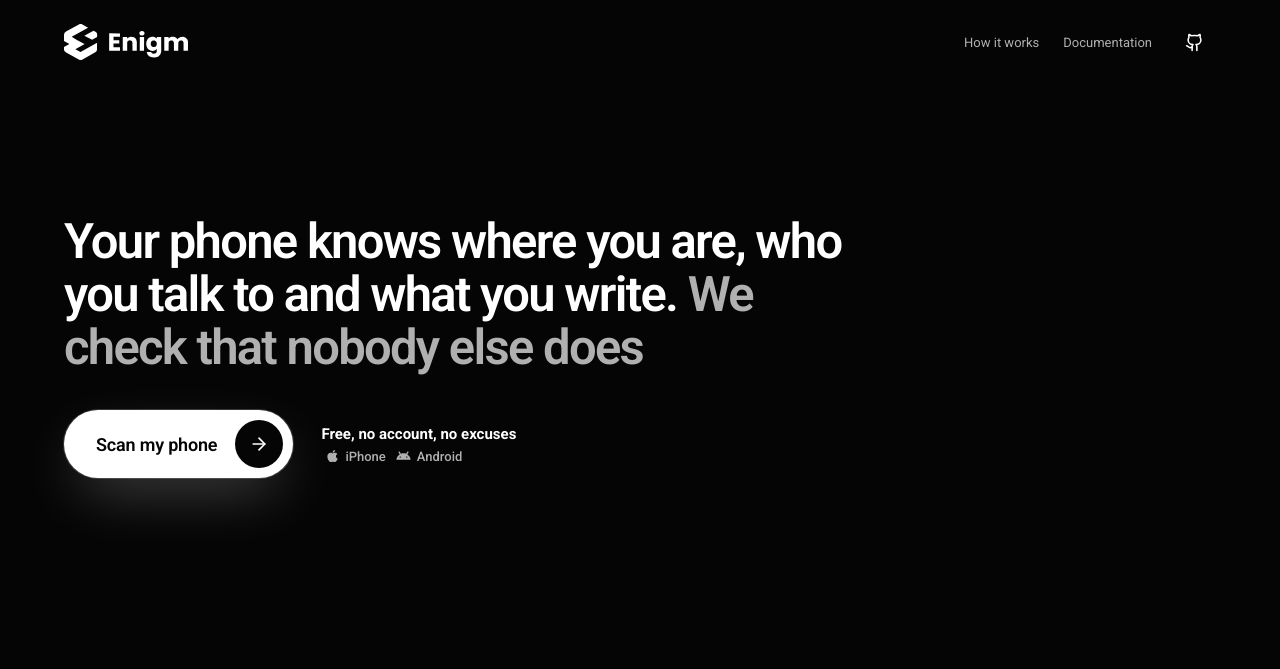
Scenario: opens the How it works page from the header and drops the privacy toggle
This screenshot has width=1280, height=669.
Click the link "How it works". click: point(1002, 42)
box: [964, 34, 1039, 50]
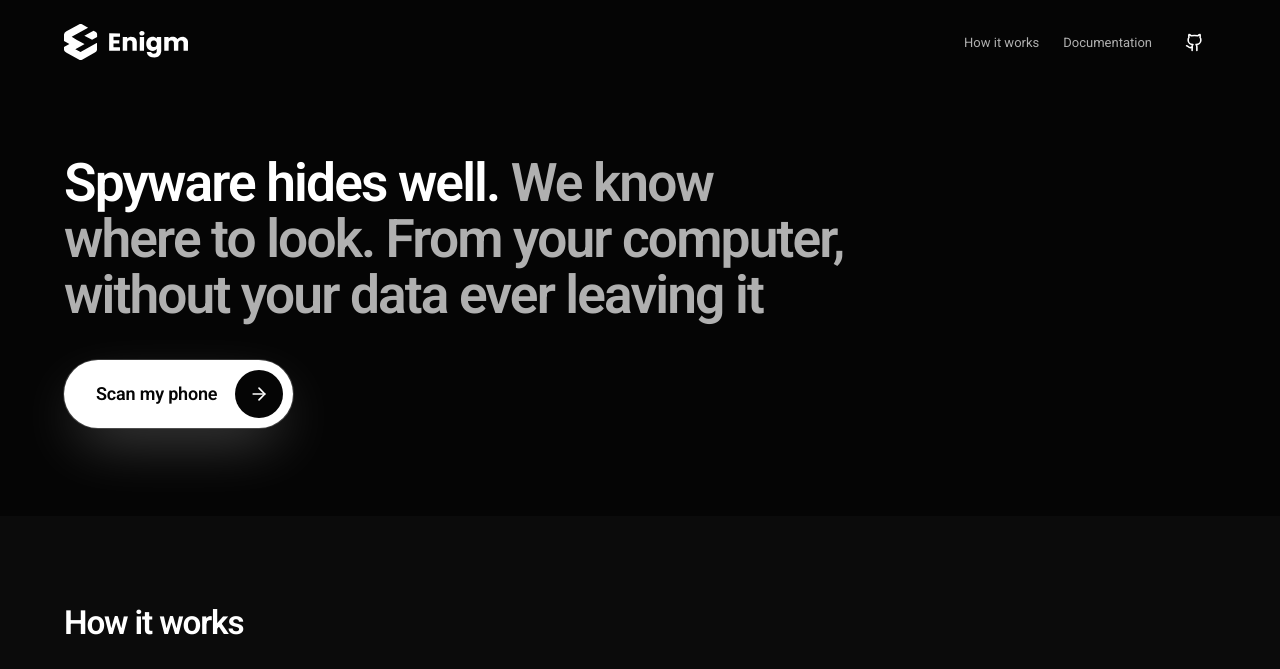
Check: the heading "Spyware hides well." is shown, box [64, 152, 843, 326]
Click the link named "Enigm Scan". click: point(126, 42)
box: [64, 24, 188, 60]
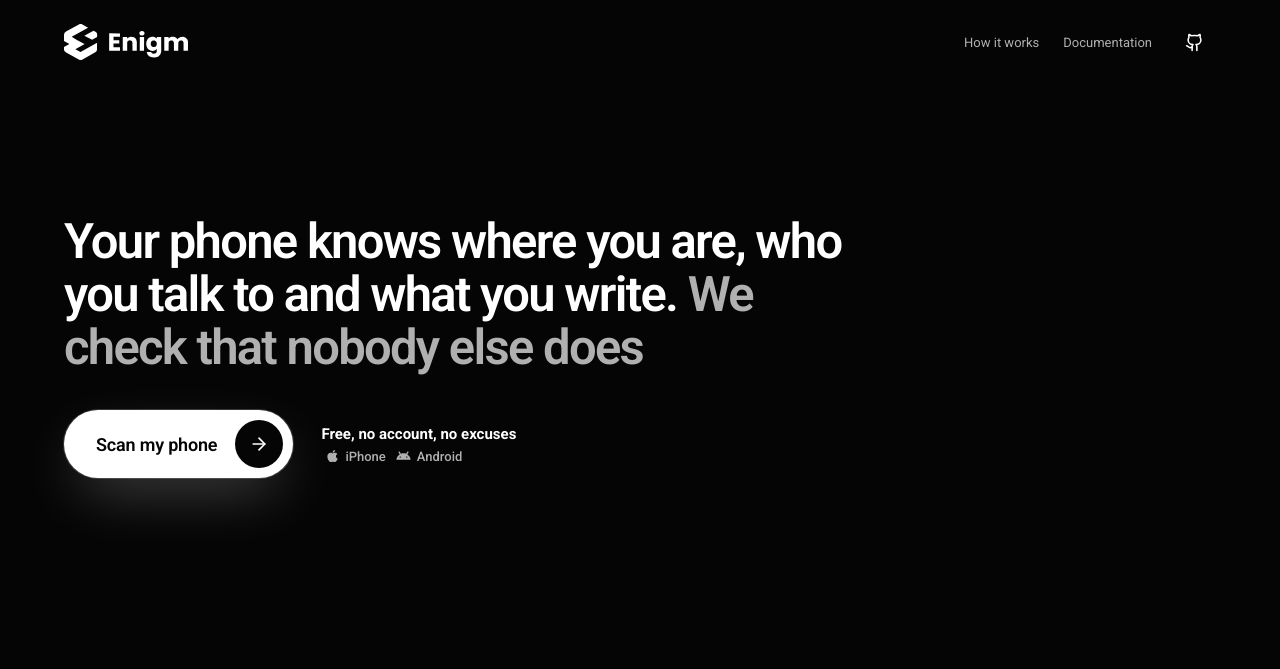
Check: the heading "Spyware hides well." is gone
